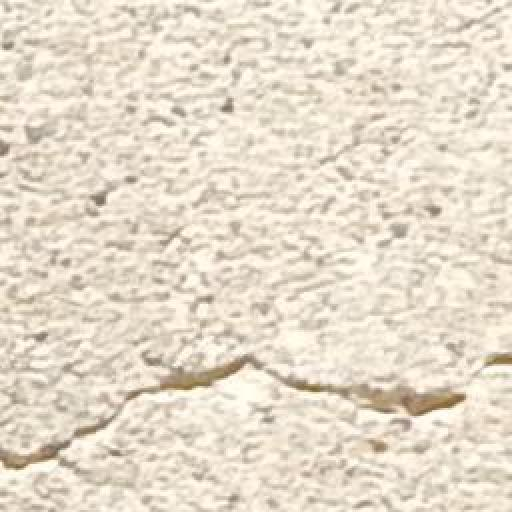spalling: (16, 326, 502, 497)
